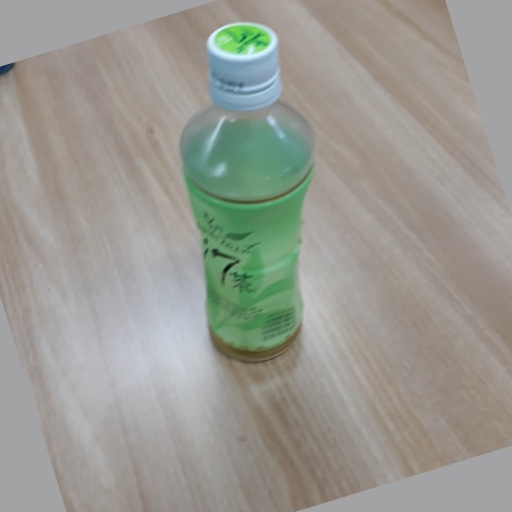Plastic_0: (182, 22, 313, 366)
